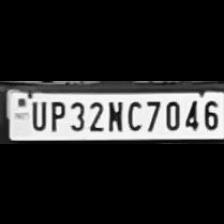0: (161, 97, 181, 129)
2: (86, 97, 104, 131)
3: (67, 97, 85, 130)
4: (180, 96, 200, 130)
6: (200, 96, 220, 130)
7: (143, 96, 161, 130)
C: (124, 97, 144, 130)
N: (104, 97, 124, 131)
P: (46, 97, 66, 130)
U: (27, 97, 46, 129)
